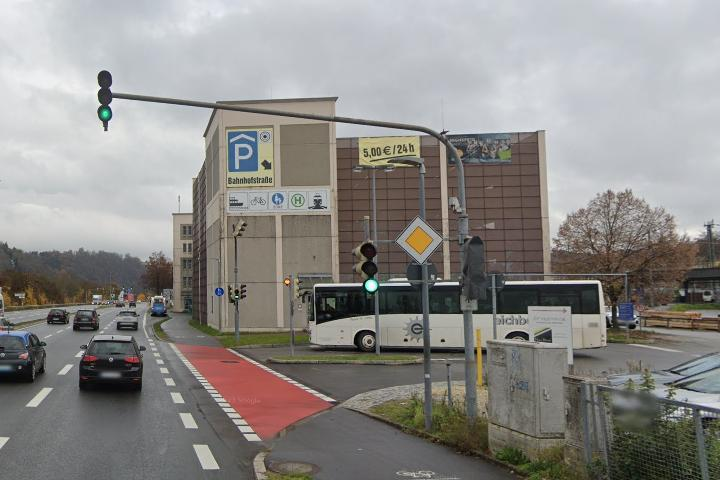traffic_sign: (392, 215, 446, 266), (249, 193, 267, 209), (271, 193, 284, 206)
vehicle: (298, 277, 610, 358), (77, 333, 148, 393), (1, 328, 49, 387), (72, 307, 101, 333), (114, 309, 141, 333), (46, 306, 70, 327), (90, 294, 103, 306)
